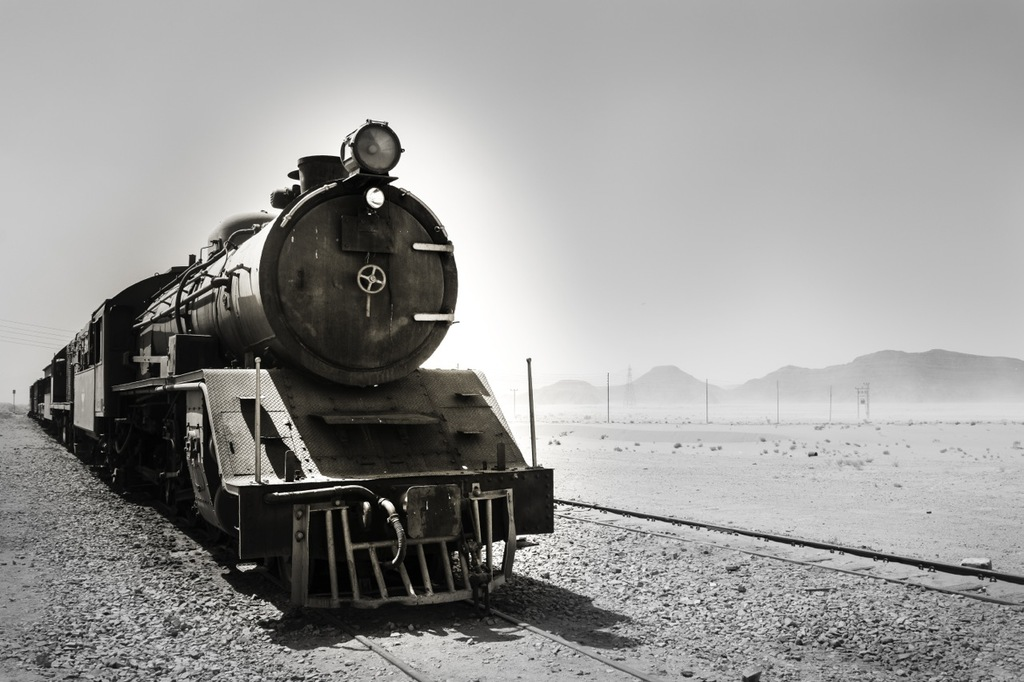train: (27, 118, 560, 614)
